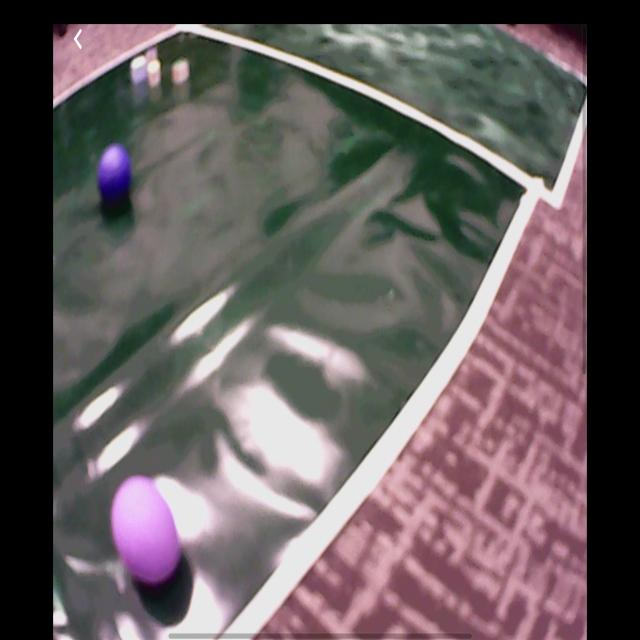ball: (112, 478, 182, 587), (98, 143, 133, 204)
